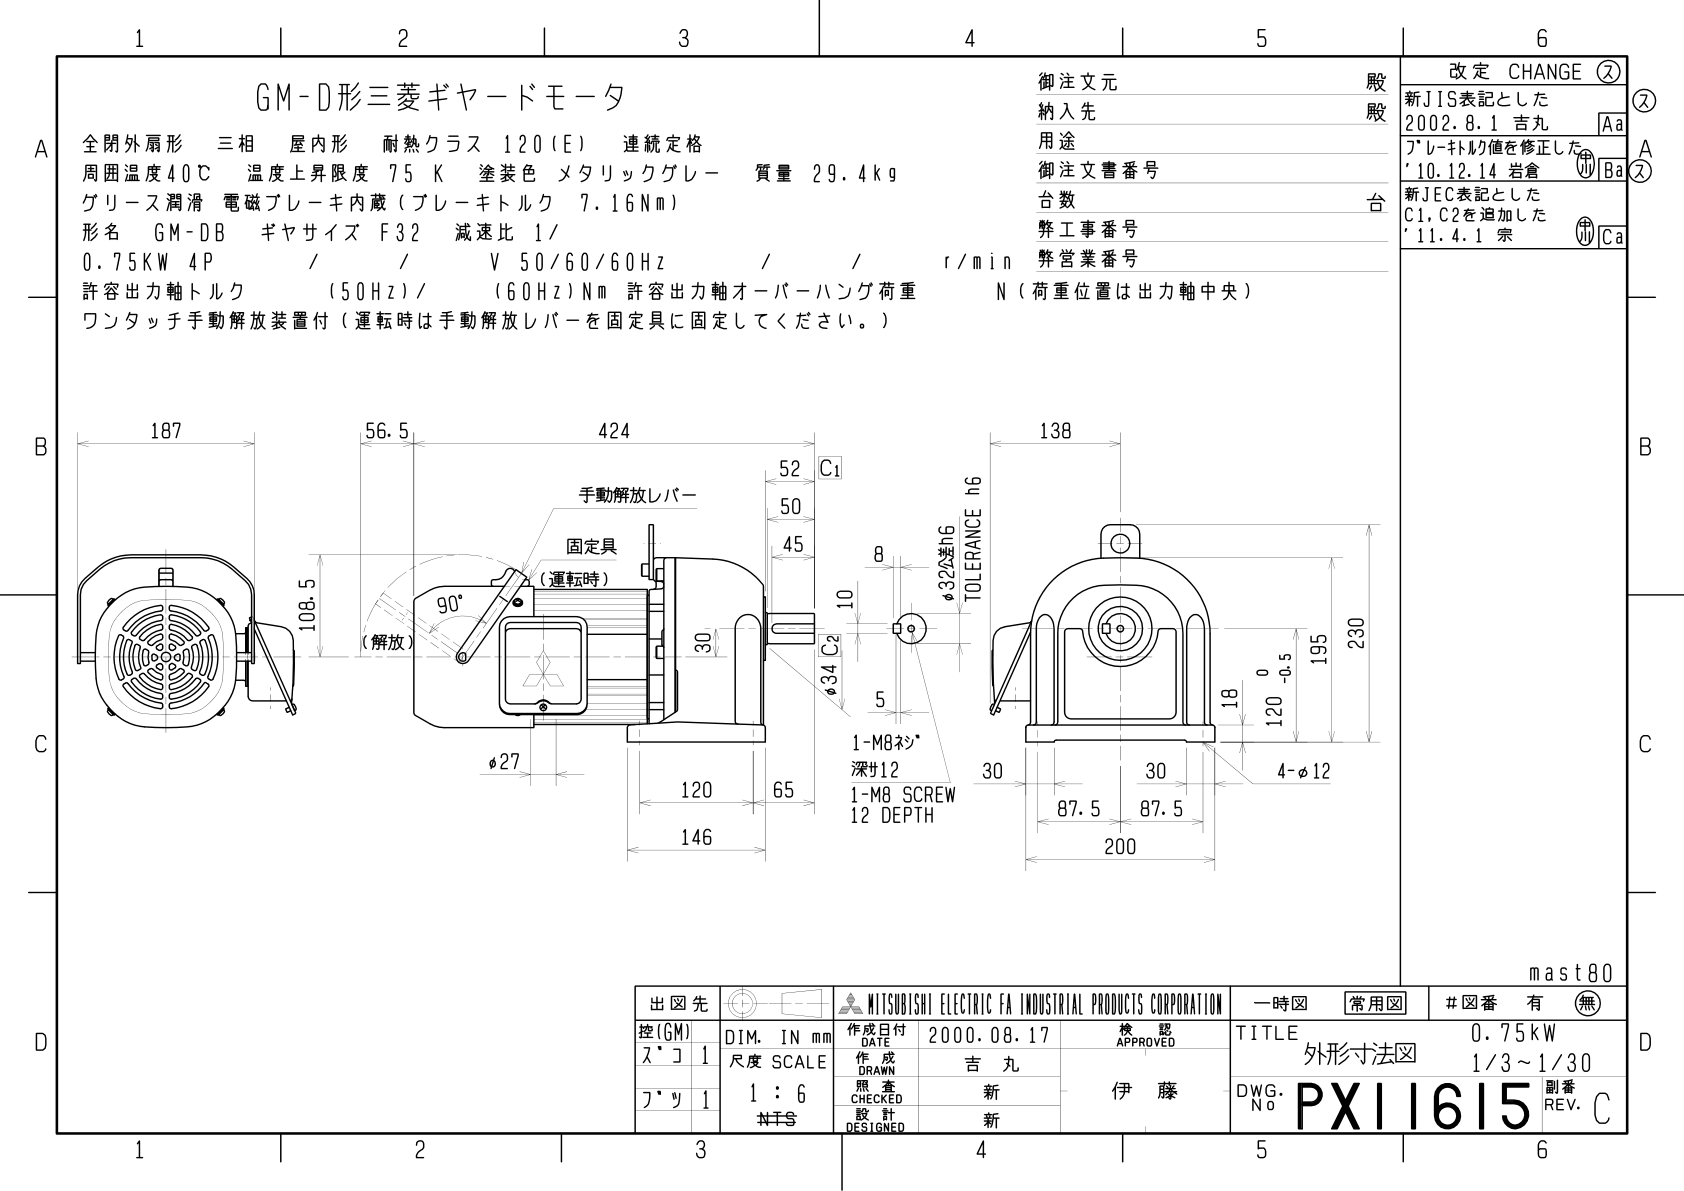GM_D_手動解放ブレーキ＿三相_脚: (67, 373, 1395, 929)
